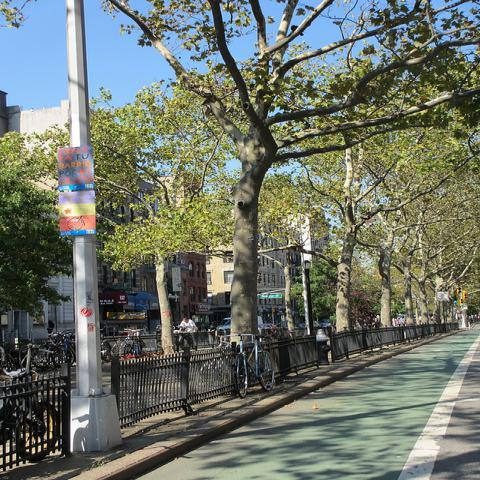truck: (217, 316, 232, 332)
